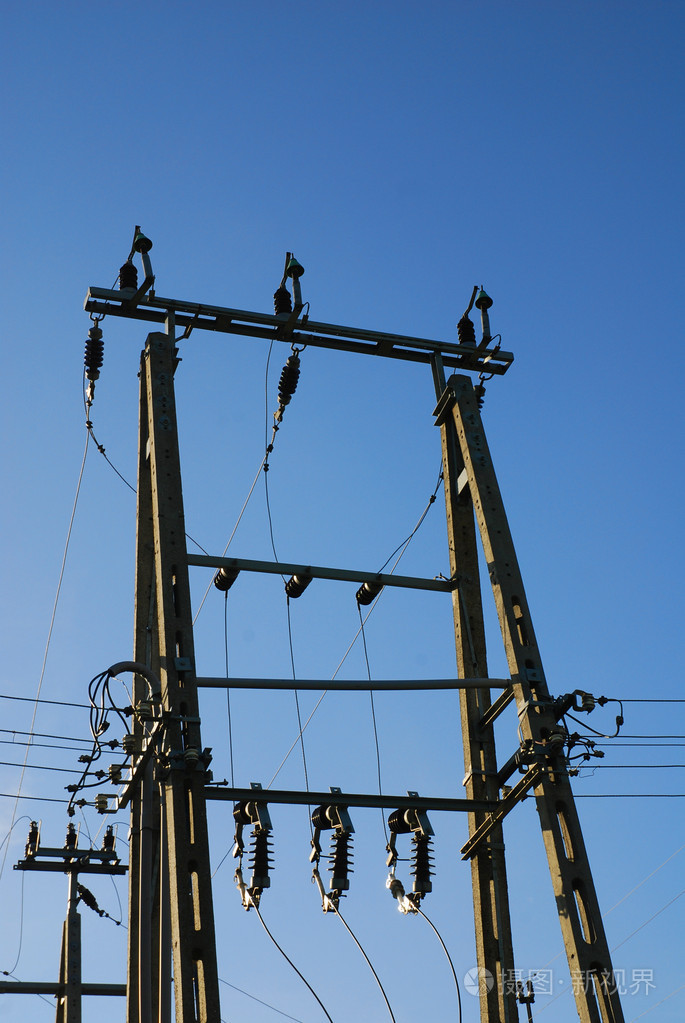insulator: (242, 825, 280, 876), (325, 830, 357, 881), (405, 834, 437, 884), (83, 331, 108, 372), (277, 360, 300, 395)
